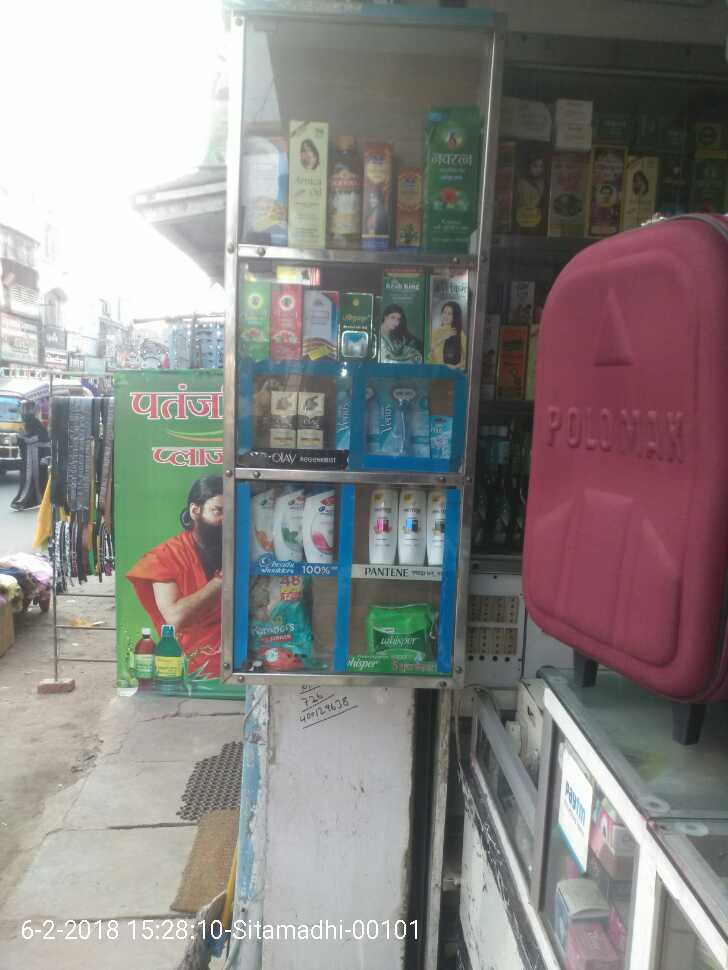venus: (381, 374, 429, 455), (335, 376, 383, 446), (428, 414, 456, 455)
